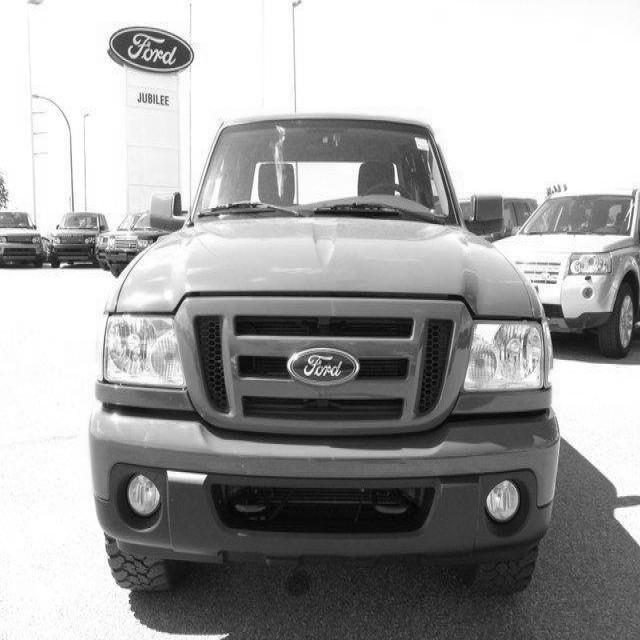car: (88, 111, 561, 596)
